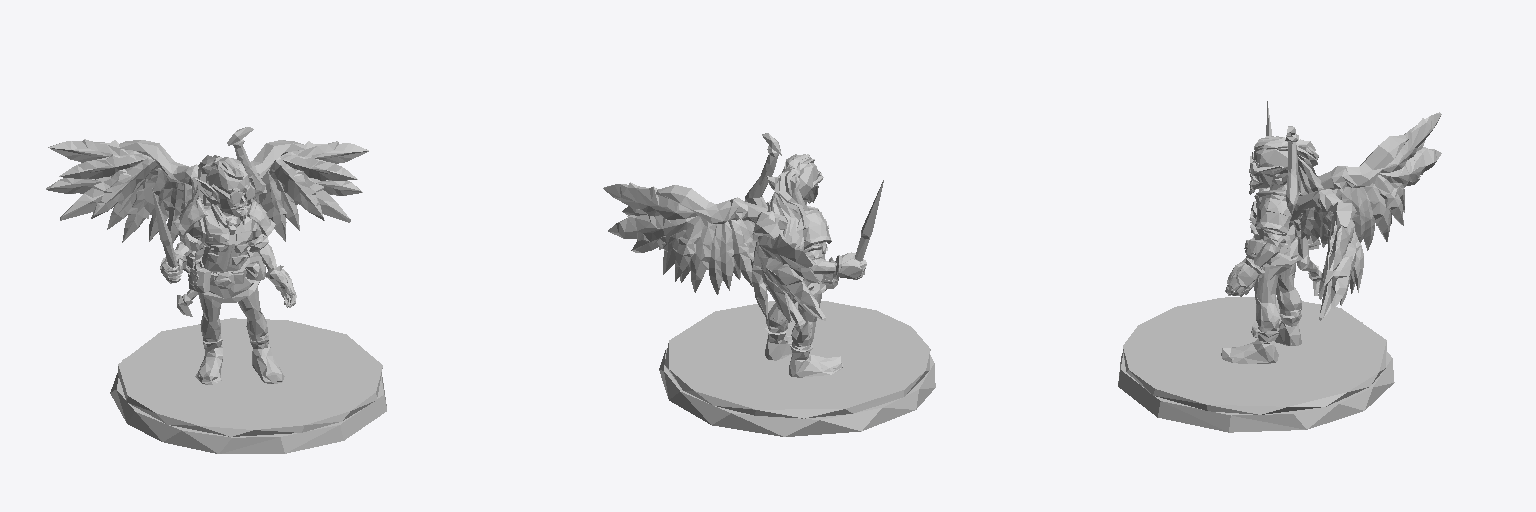
Rendered from Syldithas v1.obj.
3 views of the same model, side by side, from view 1: azimuth 30°, elevation 25°; view 2: azimuth 150°, elevation 25°; view 3: azimuth 270°, elevation 25° (orthographic).
Parts seen in each view (by area): view 1: Fairy_Artificer; view 2: Fairy_Artificer; view 3: Fairy_Artificer.
Part boxes in pixels (bbox=[...]): Fairy_Artificer: bbox=[46, 127, 386, 453]; Fairy_Artificer: bbox=[603, 133, 935, 436]; Fairy_Artificer: bbox=[1118, 101, 1441, 432].
Size of the model in its own units: 0.8808 by 0.7734 by 0.892.